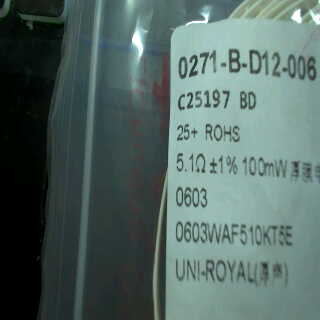5.1R: (176, 149, 208, 181)
